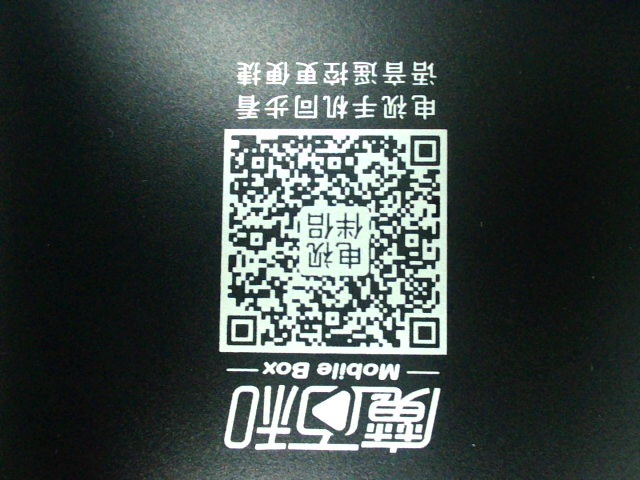AZ_MobileBox: (207, 56, 459, 455)
